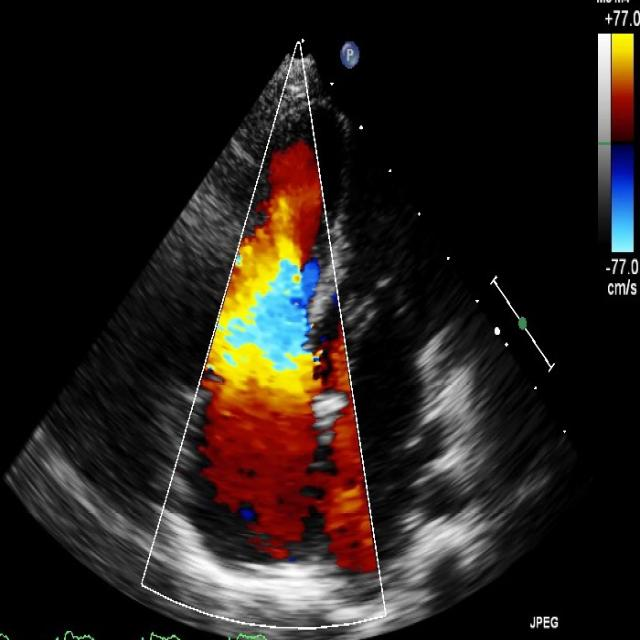ASDType2: (200, 360, 380, 572)
